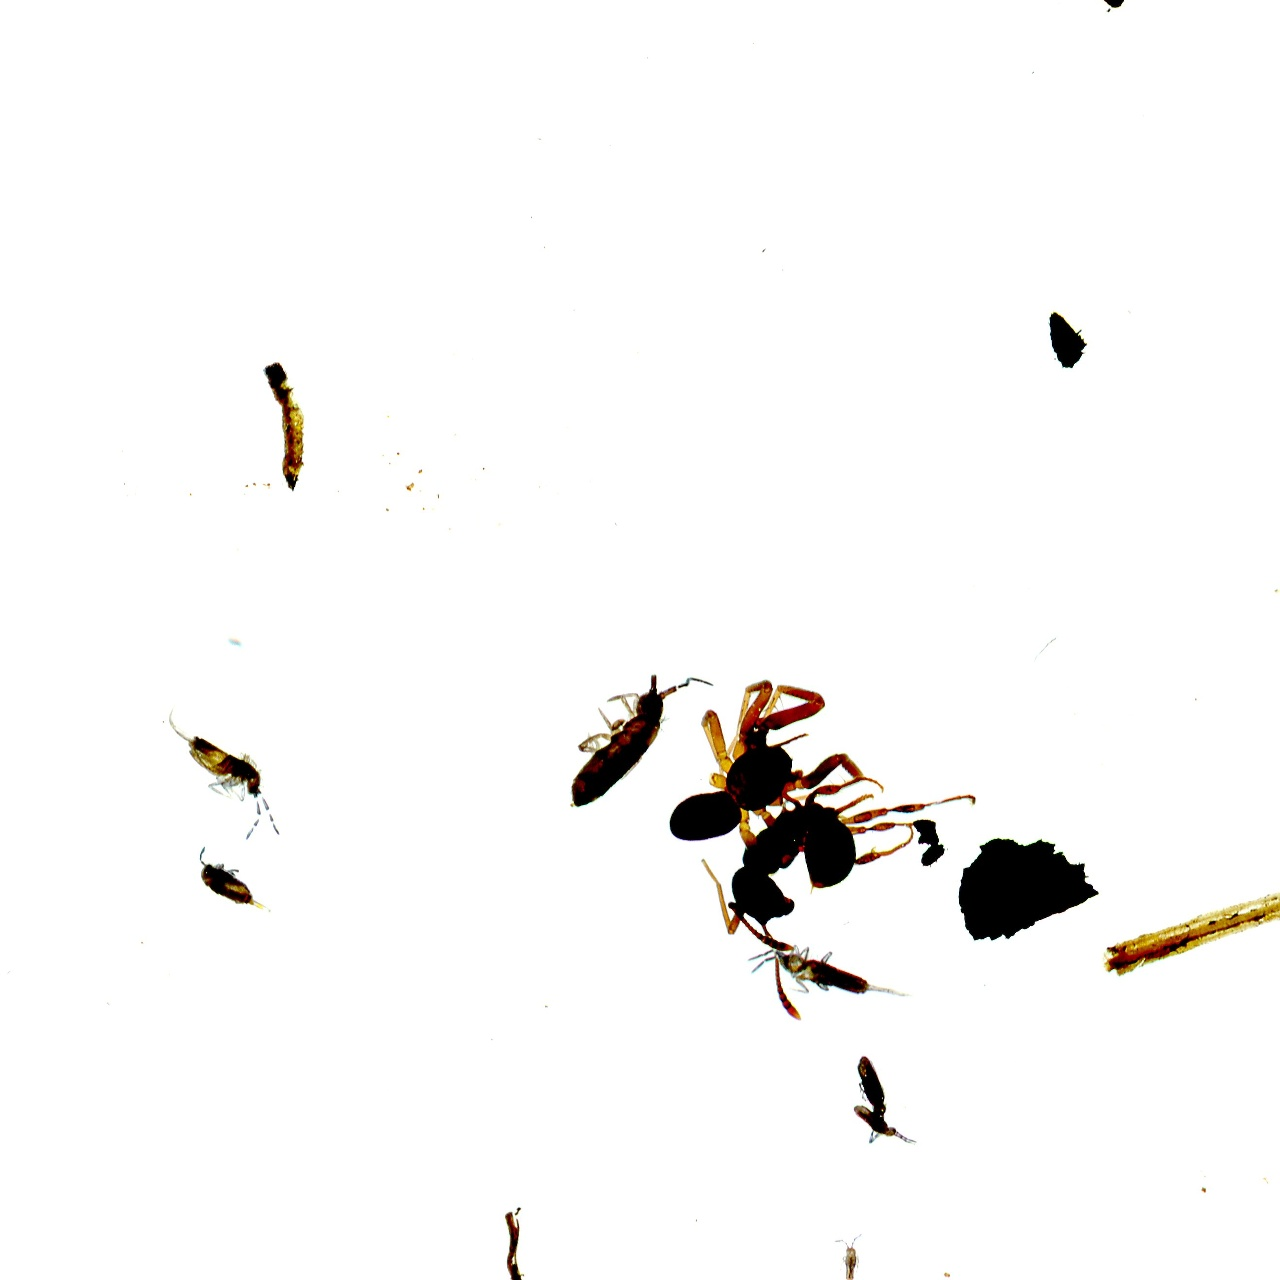arthropod: (696, 751, 980, 1022), (542, 632, 722, 842), (667, 659, 863, 851), (738, 922, 922, 1026), (164, 702, 287, 845), (833, 1048, 907, 1145), (196, 844, 280, 924), (845, 1090, 925, 1167), (824, 1228, 873, 1280)
